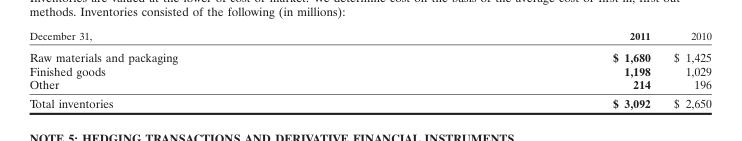table: (28, 29, 710, 110)
table column: (28, 29, 394, 110), (394, 29, 661, 110), (661, 29, 710, 110)
table column header: (28, 29, 710, 45)
table row: (28, 45, 710, 63), (28, 93, 710, 110), (28, 29, 710, 45), (28, 77, 710, 93), (28, 63, 710, 77)
